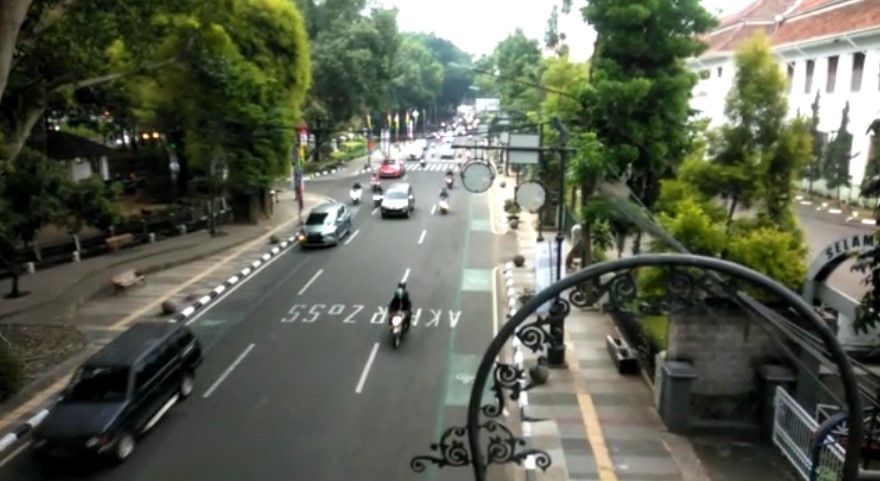mobil: (18, 318, 209, 458), (301, 199, 352, 247), (379, 183, 416, 219)
motor: (379, 279, 414, 348), (434, 188, 453, 215), (367, 183, 384, 207), (349, 181, 363, 206)
